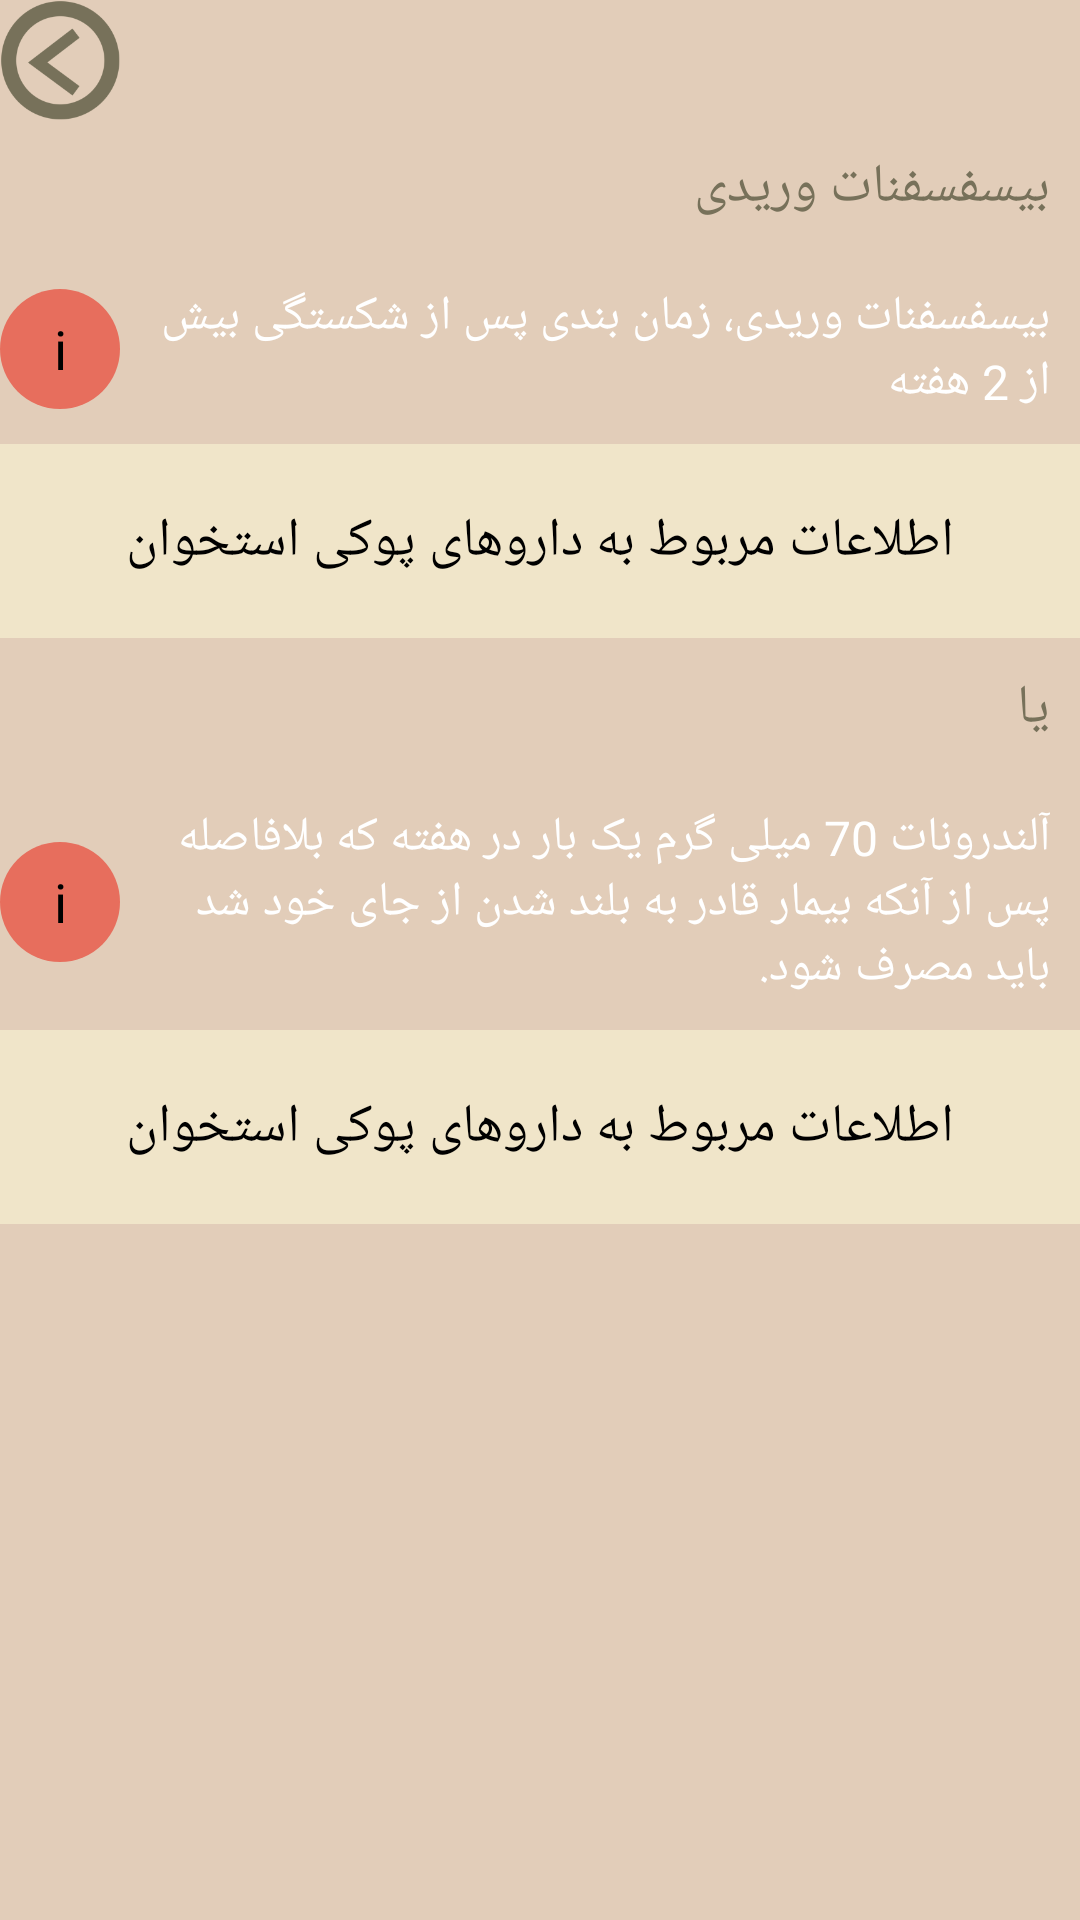

Icon click points for this 1080px x 1920px phone screenshot, format (x,y):
arrow left: (60,60)
